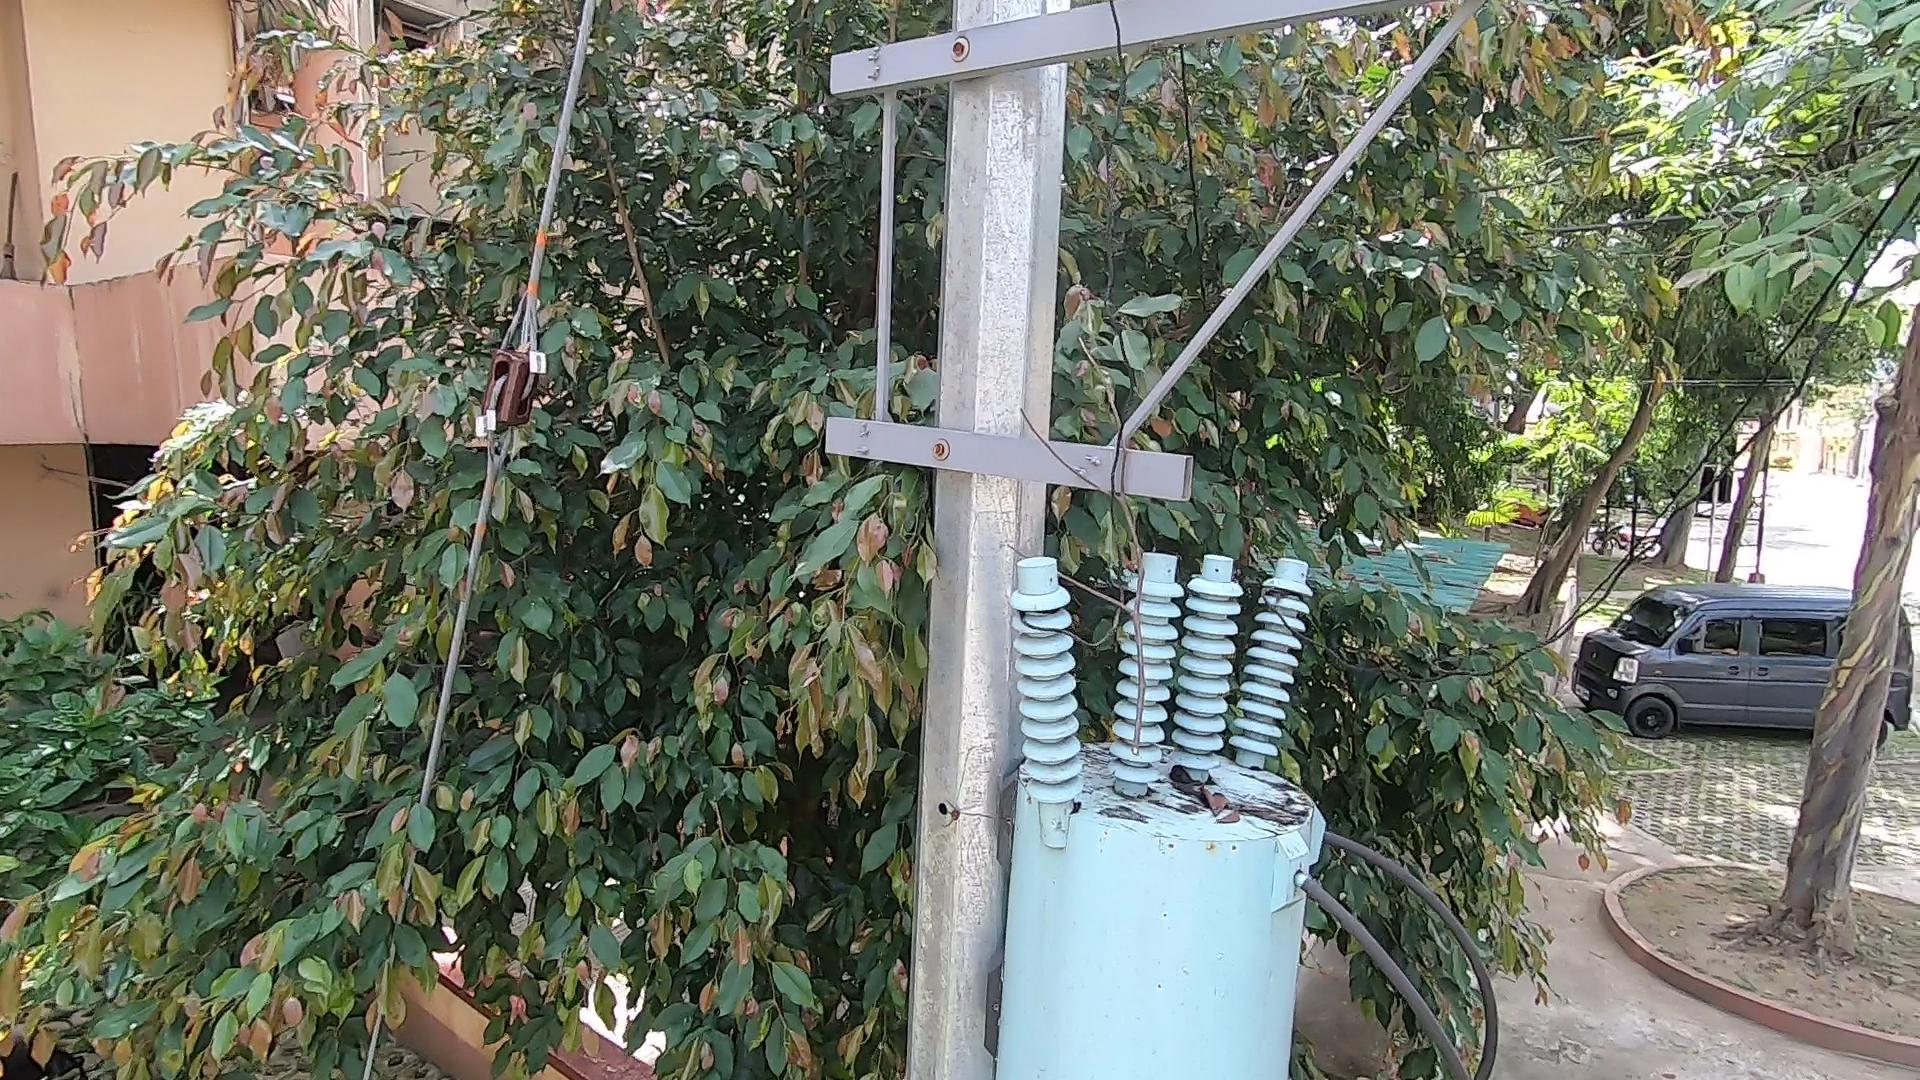leaf: (1168, 760, 1245, 835)
tree branch: (997, 343, 1185, 760)
